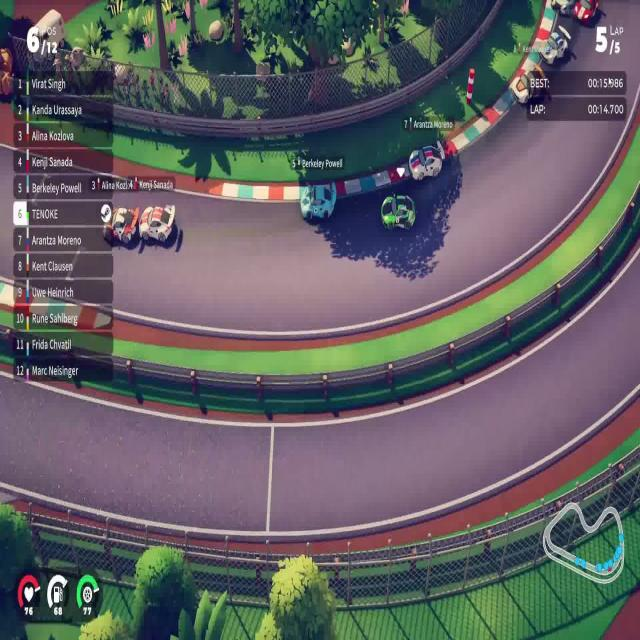car: (510, 63, 551, 105), (299, 179, 337, 223), (138, 202, 176, 244), (381, 191, 416, 232), (408, 143, 443, 182), (106, 204, 139, 245), (538, 30, 568, 65), (572, 0, 599, 26)
